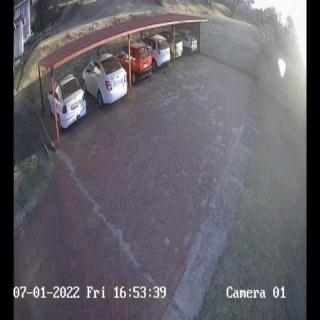car: (82, 55, 126, 106), (50, 75, 86, 130), (115, 42, 152, 82), (138, 36, 171, 71), (158, 32, 183, 59), (174, 31, 198, 53)
